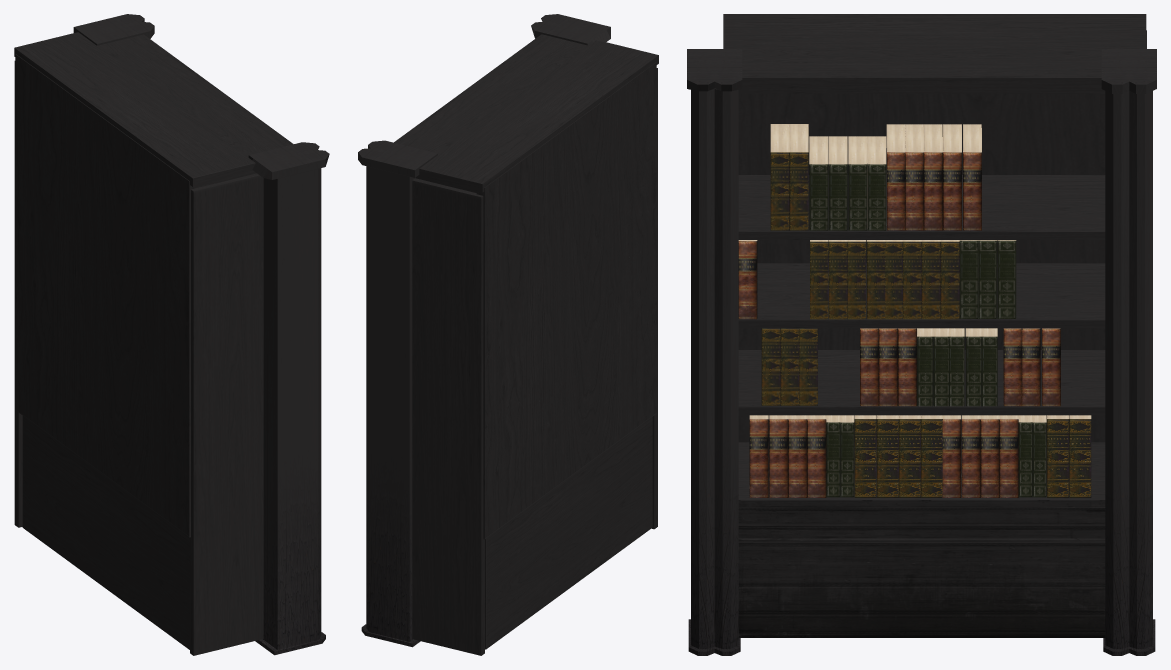
The model's file is FPH_Library01.fbx.
The picture shows the model from 3 angles, left to right: view 1: azimuth 30°, elevation 25°; view 2: azimuth 150°, elevation 25°; view 3: azimuth 270°, elevation 25°; orthographic projection. The views are drawn at different scales.
Parts seen in each view (by area): view 1: FPH_Library; view 2: FPH_Library; view 3: FPH_Library.
Part boxes in pixels (x1,y1,x2,y2): FPH_Library: (14,14,329,655); FPH_Library: (358,14,658,655); FPH_Library: (687,14,1156,655).
Size of the model in its own units: 3.18 by 11.61 by 8.62.
